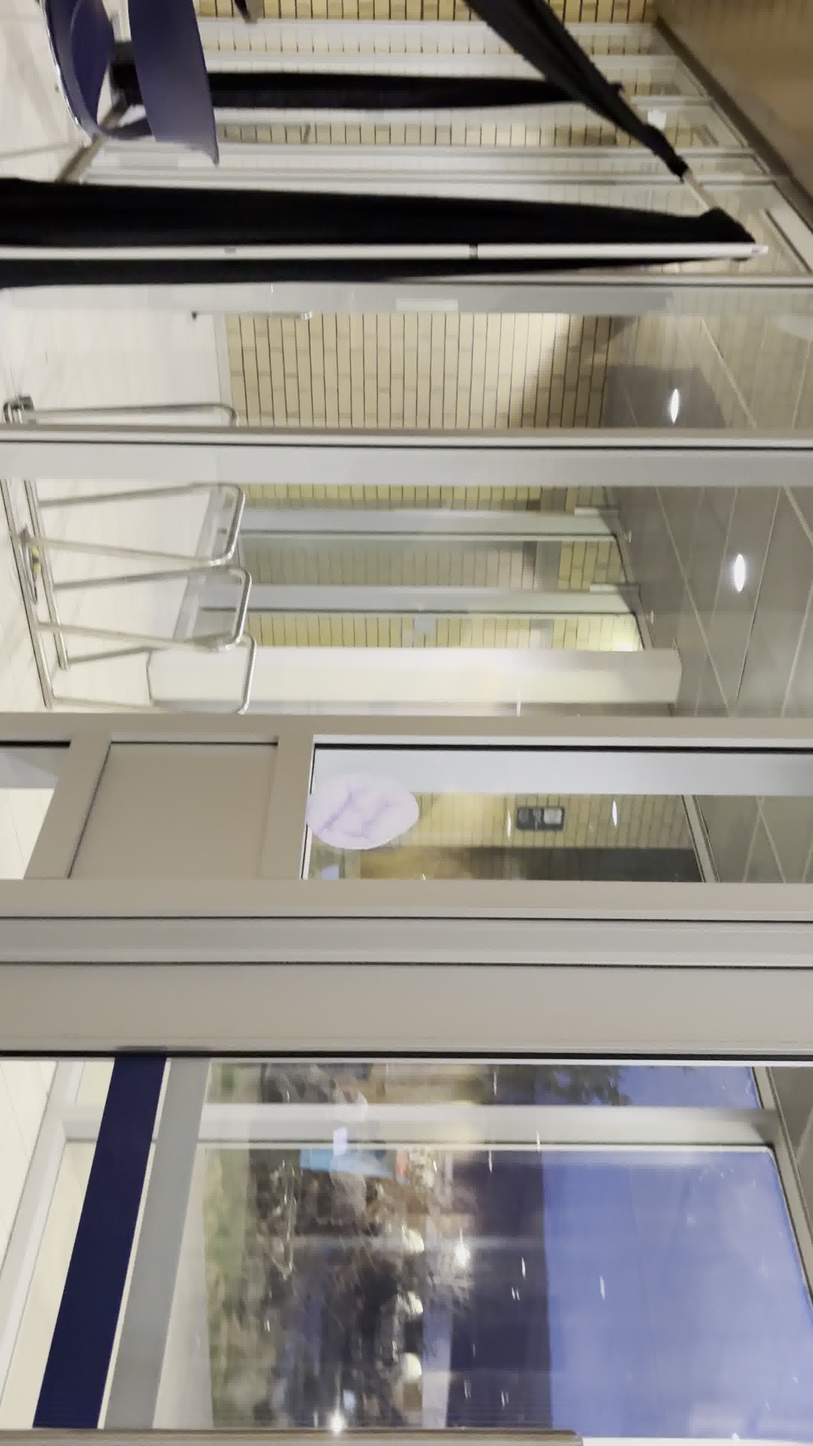Target: (304, 770, 421, 852)
